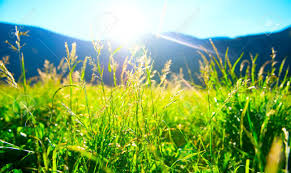field: (5, 63, 291, 172)
